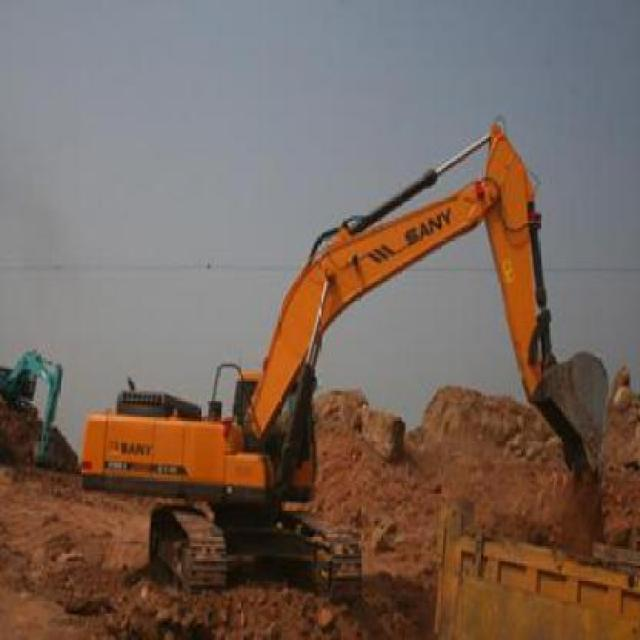excavator: (78, 106, 612, 594), (0, 341, 63, 467)
